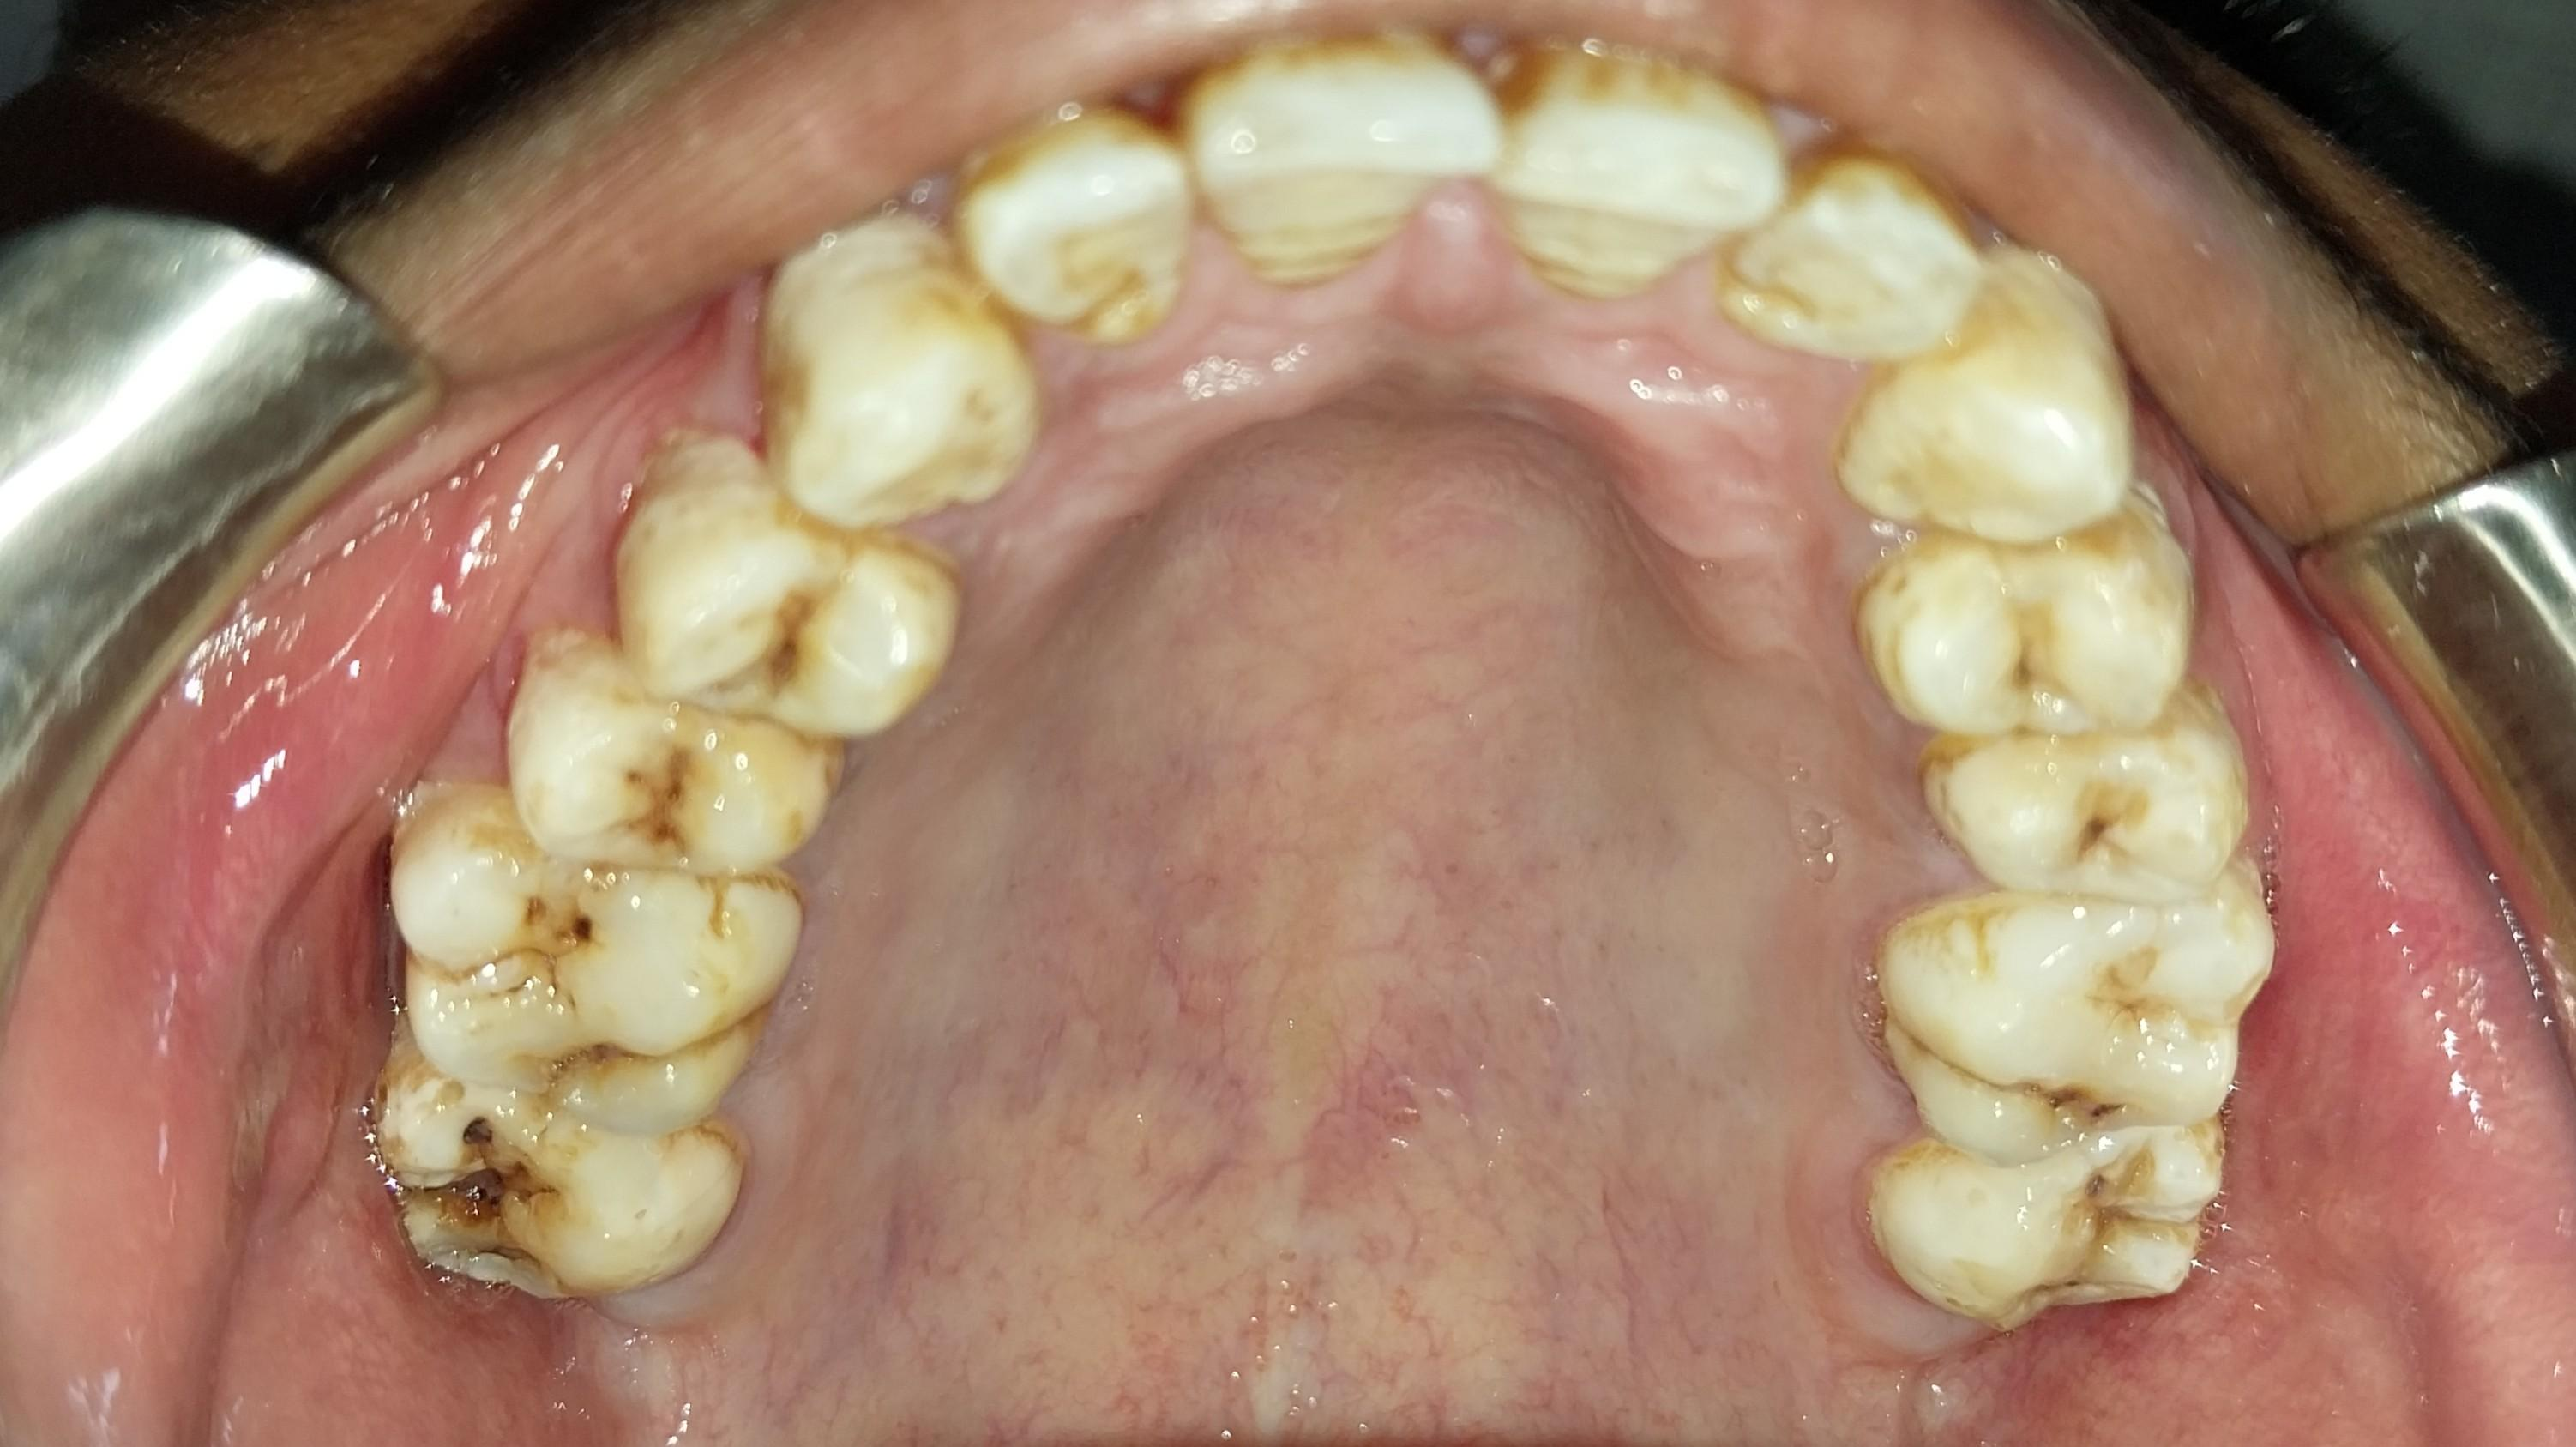D: (397, 805, 785, 1137), (1900, 890, 2266, 1162), (369, 1058, 738, 1307)
